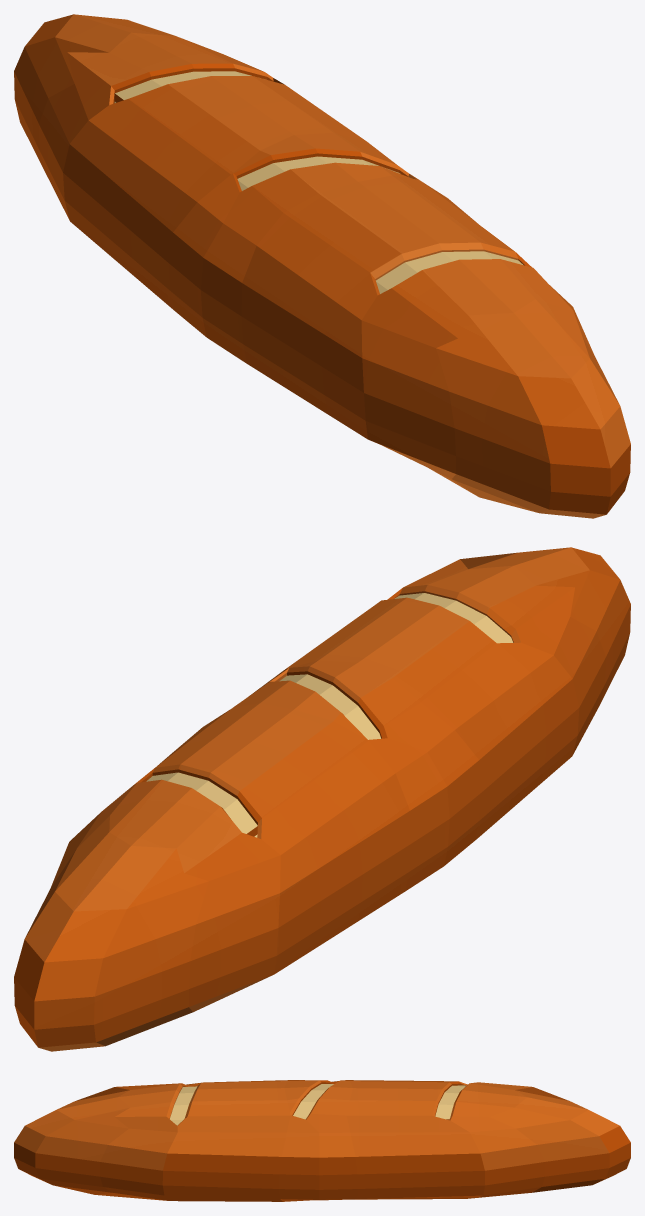
File: Bread_2.fbx
The picture shows the model from 3 angles, top to bottom: view 1: azimuth 30°, elevation 25°; view 2: azimuth 150°, elevation 25°; view 3: azimuth 270°, elevation 25°; orthographic projection. The views are drawn at different scales.
Parts seen in each view (by area): view 1: Bread 1.001; view 2: Bread 1.001; view 3: Bread 1.001.
Boxes of the visible parts, <box> form: Bread 1.001: <box>14,14,630,518</box>; Bread 1.001: <box>14,547,630,1051</box>; Bread 1.001: <box>14,1080,630,1201</box>.
Size of the model in its own units: 10 by 6.94 by 40.
